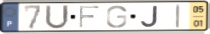7: (23, 4, 43, 31)
F: (77, 5, 101, 29)
G: (105, 5, 129, 29)
I: (174, 3, 181, 30)
J: (139, 5, 160, 29)
U: (44, 4, 71, 31)
